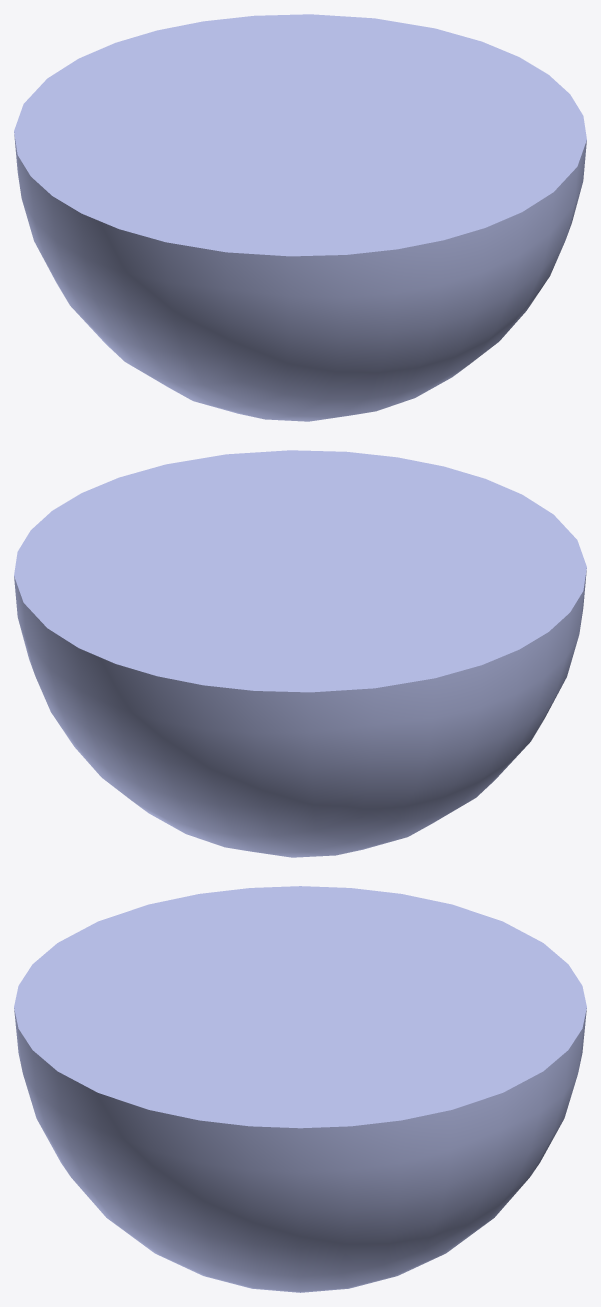
Rendered from Semisphere_22.fbx.
3 renders of one model, top to bottom at view 1: azimuth 30°, elevation 25°; view 2: azimuth 150°, elevation 25°; view 3: azimuth 270°, elevation 25°, orthographic.
Parts seen in each view (by area): view 1: Semisphere_22; view 2: Semisphere_22; view 3: Semisphere_22.
Part boxes in pixels (bbox=[...]): Semisphere_22: bbox=[14, 14, 586, 421]; Semisphere_22: bbox=[14, 450, 586, 857]; Semisphere_22: bbox=[14, 886, 586, 1292].
Size of the model in its own units: 2200 by 1100 by 2200.
